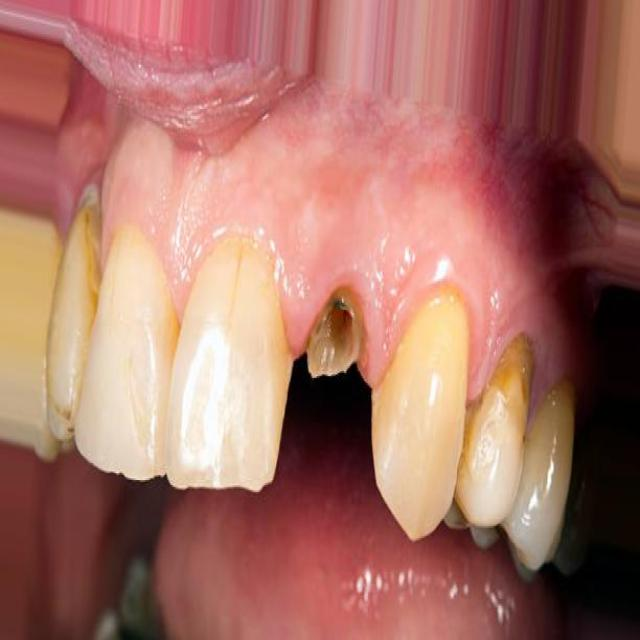caries: (288, 276, 376, 400), (479, 326, 546, 448), (65, 176, 116, 316)
